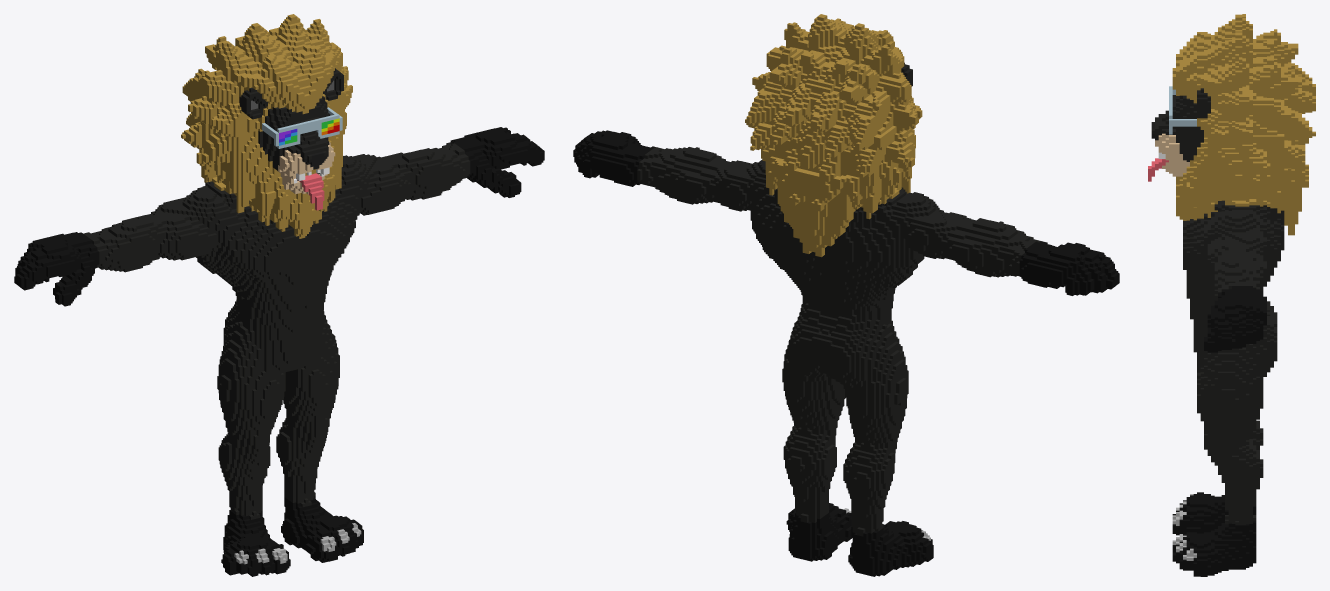
Rendered from 493-DWDkmX-i.glb.
3 views of the same model, side by side, from view 1: azimuth 30°, elevation 25°; view 2: azimuth 150°, elevation 25°; view 3: azimuth 270°, elevation 25° (orthographic). The views are drawn at different scales.
Parts seen in each view (by area): view 1: tongue_out; view 2: tongue_out; view 3: tongue_out.
Part boxes in pixels (x1,y1,x2,y2): tongue_out: [14, 14, 544, 576]; tongue_out: [573, 14, 1119, 576]; tongue_out: [1148, 14, 1315, 576].
Bounding box in the file's own units: 17.2 × 16.5 × 4.8.
Materials: 4 (4 with a texture image).
